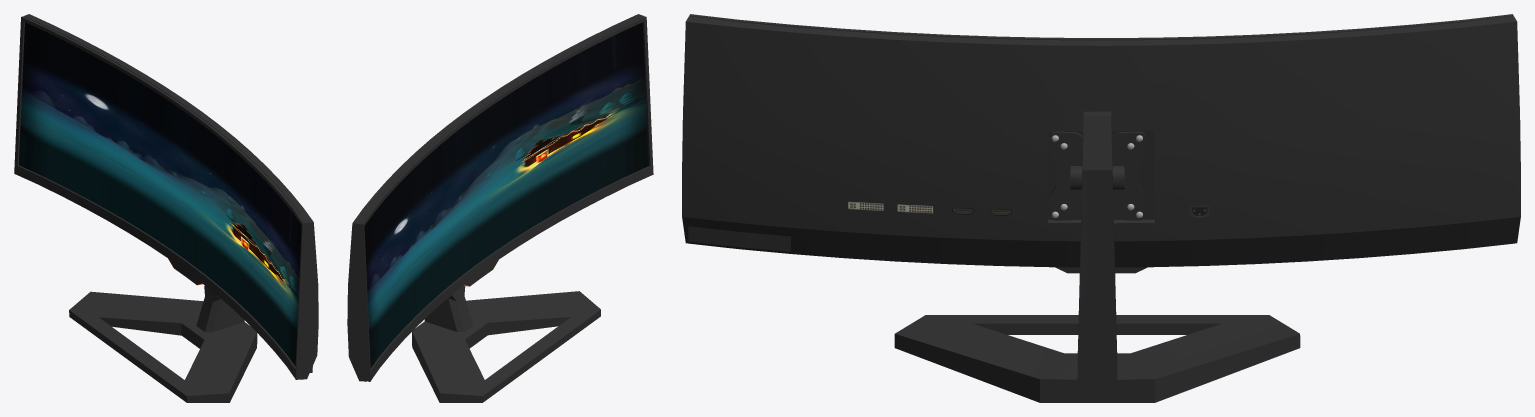
The model's file is ekran_guncel.glb.
The picture shows the model from 3 angles, left to right: view 1: azimuth 30°, elevation 25°; view 2: azimuth 150°, elevation 25°; view 3: azimuth 270°, elevation 25°; orthographic projection. The views are drawn at different scales.
Visible parts, largest first — view 1: Monitor_g, Monitor_stand_e; view 2: Monitor_g, Monitor_stand_e; view 3: Monitor_g, Monitor_stand_e, Monitor_stand_e_connect.
Part boxes in pixels (left/top/right/bottom): Monitor_g: left=14, top=14, right=318, bottom=379; Monitor_stand_e: left=69, top=285, right=257, bottom=402; Monitor_g: left=347, top=14, right=653, bottom=381; Monitor_stand_e: left=412, top=285, right=600, bottom=402; Monitor_g: left=682, top=14, right=1520, bottom=273; Monitor_stand_e: left=894, top=111, right=1300, bottom=402; Monitor_stand_e_connect: left=1049, top=131, right=1145, bottom=220.
Size of the model in its own units: 0.2217 by 0.444 by 1.
3 materials, 3 textured.
